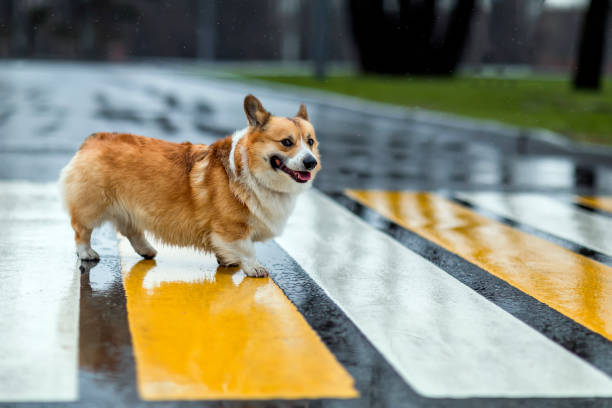kopek: (50, 91, 327, 292)
